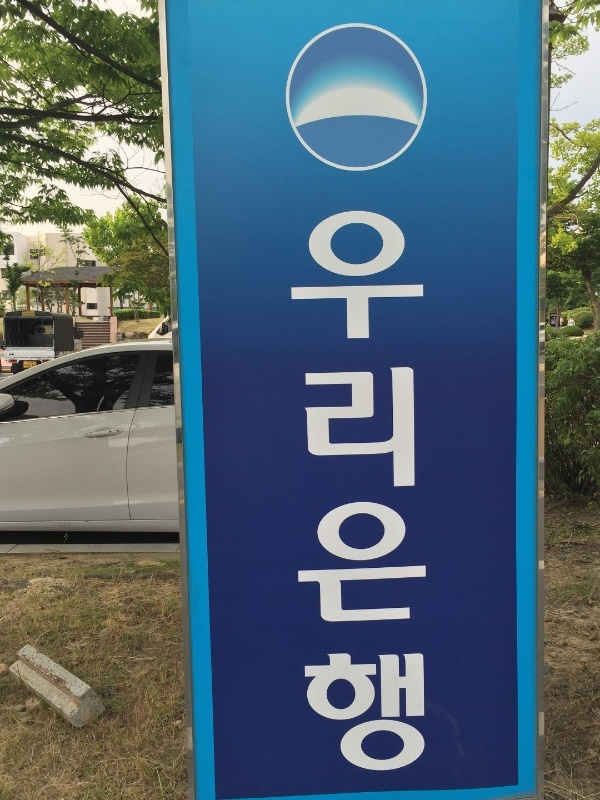text: (289, 199, 304, 786), (305, 199, 320, 786), (321, 199, 336, 786), (337, 199, 352, 786), (353, 199, 368, 786), (369, 199, 384, 786), (385, 199, 400, 786), (401, 199, 416, 786), (417, 199, 431, 786), (286, 199, 288, 786)
